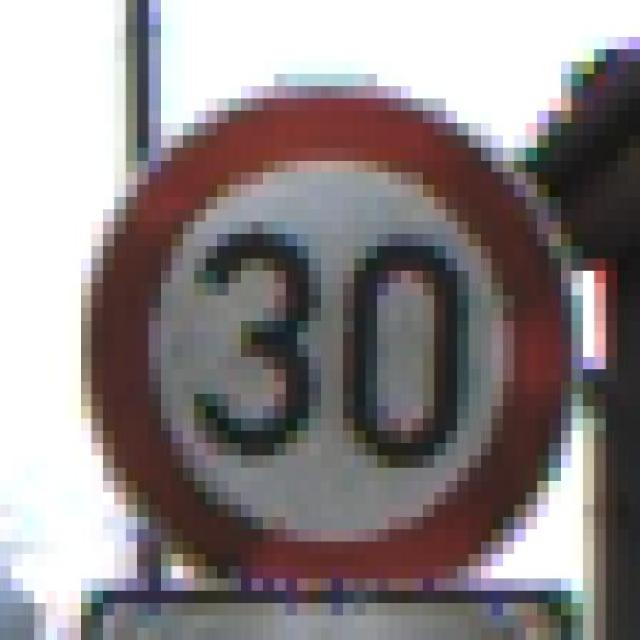Speed Limit 30 KMPh: (34, 49, 606, 616)
